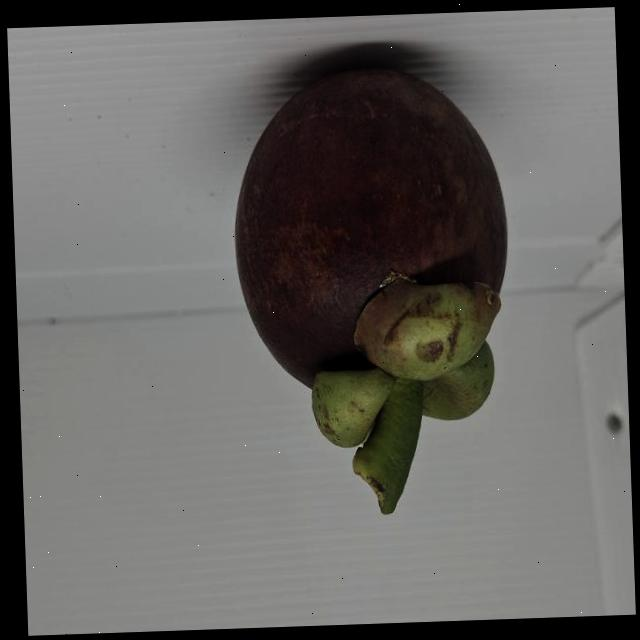mangosteen: (189, 28, 547, 524)
